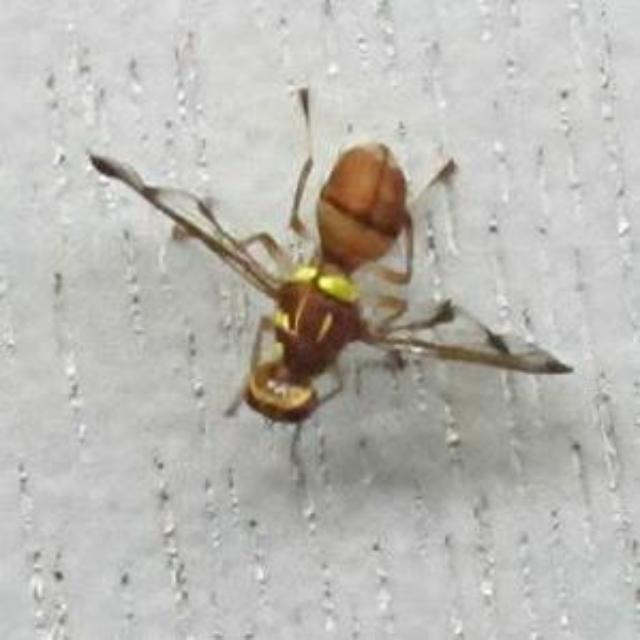melon fly: (67, 70, 593, 532)
